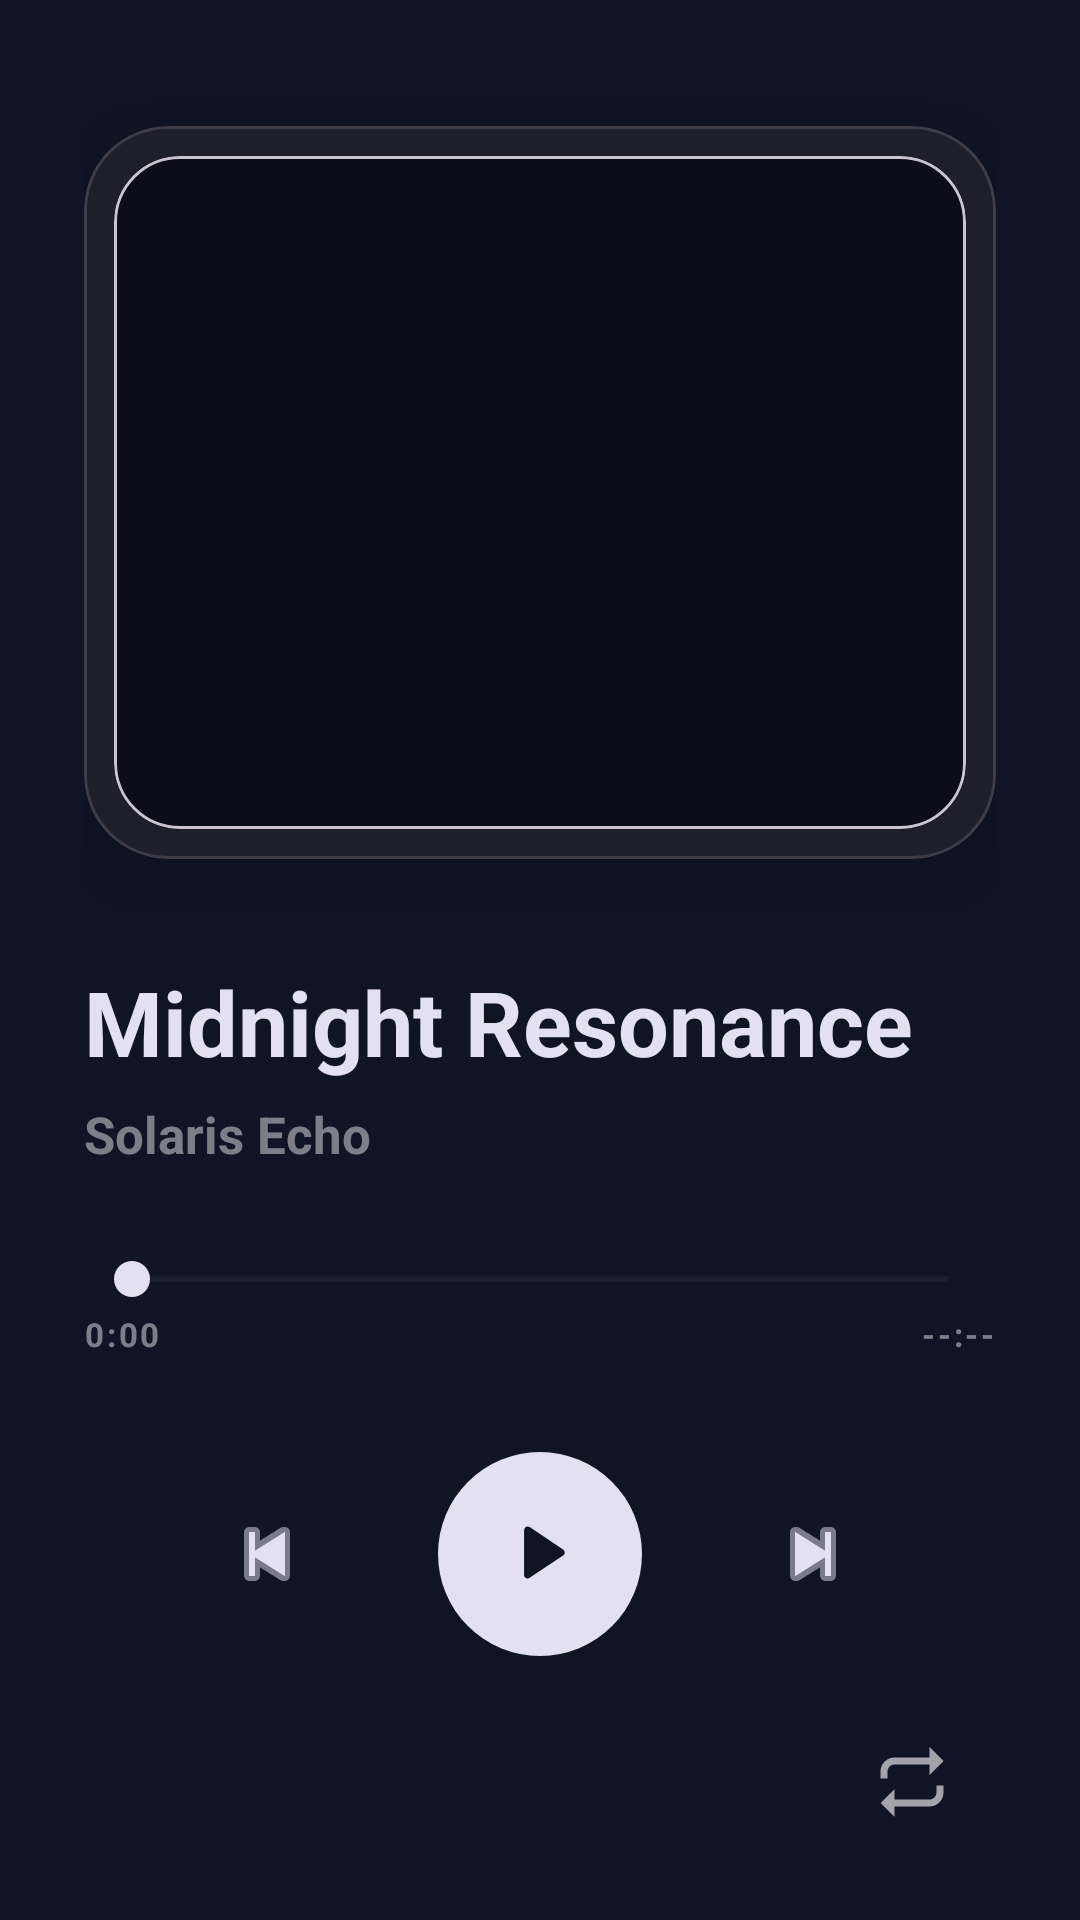

Named icons in this screenshot (1080px x 1920px) and their bounding boxes, (x1, y1, x2, y2):
Canción anterior: (244, 1527, 290, 1581)
Modo de reproducción: (880, 1747, 944, 1817)
Siguiente canción: (790, 1527, 836, 1581)
